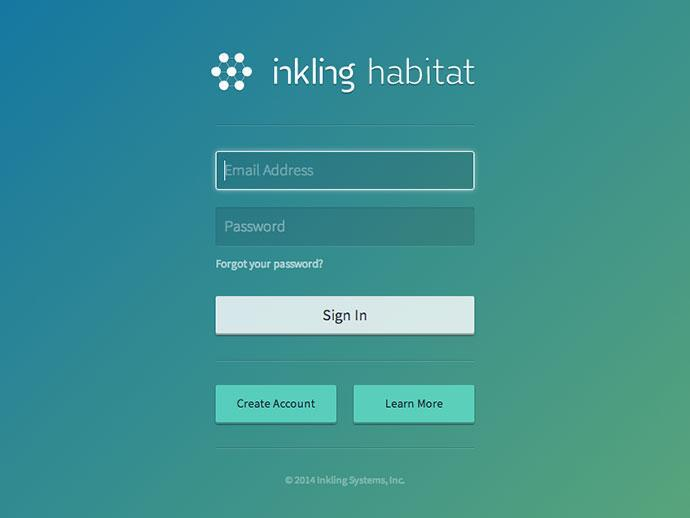button: (216, 298, 476, 335), (355, 386, 476, 426), (217, 386, 338, 425)
input: (217, 152, 476, 192), (217, 208, 477, 247)
